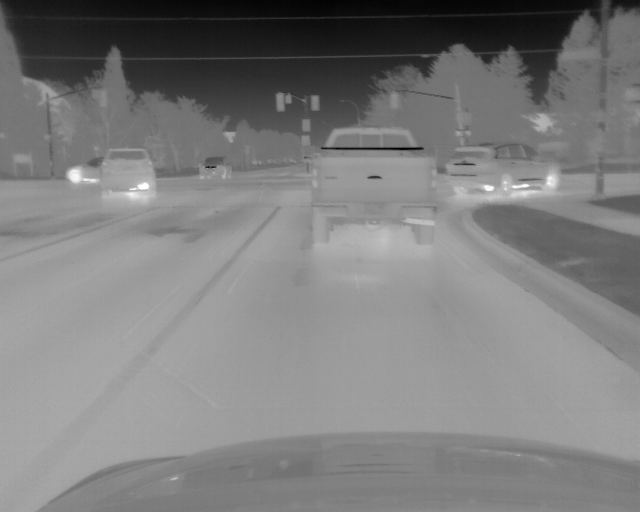car: (310, 124, 437, 245), (448, 138, 565, 194), (100, 146, 158, 198), (66, 155, 104, 183), (199, 156, 232, 181)
